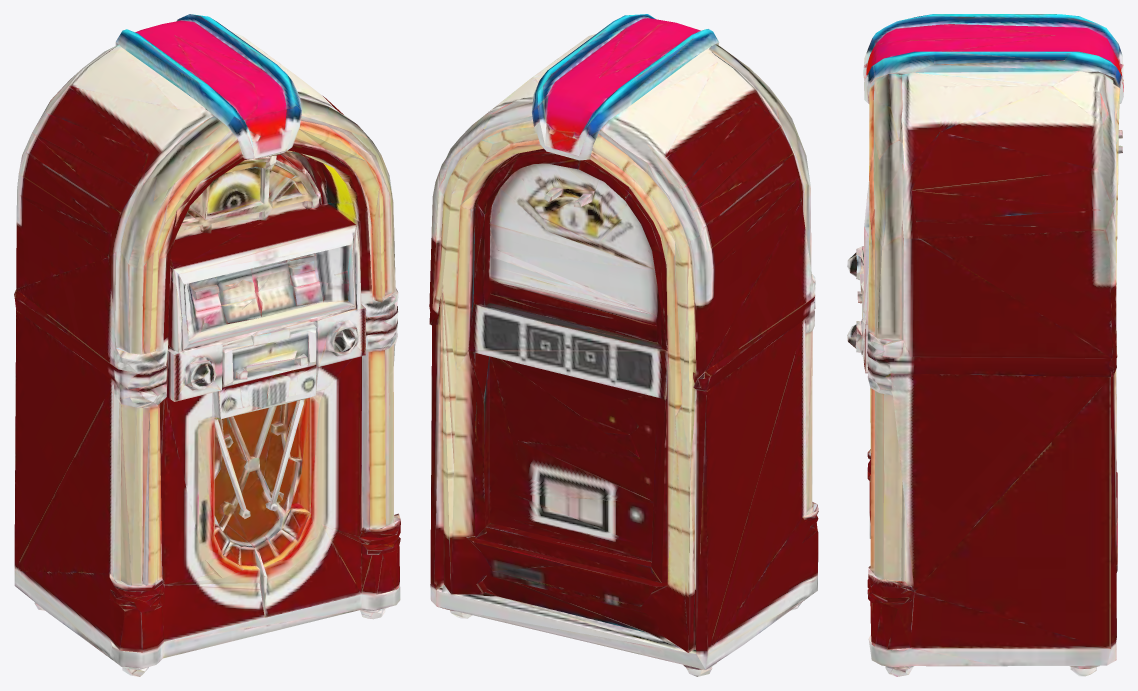
Rendered from jukebox.glb.
The picture shows the model from 3 angles, left to right: view 1: azimuth 30°, elevation 25°; view 2: azimuth 150°, elevation 25°; view 3: azimuth 270°, elevation 25°; orthographic projection. The views are drawn at different scales.
Size of the model in its own units: 1.01 by 1.9 by 0.8204.
Materials: 1 (1 with a texture image).
